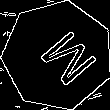M_SW: (23, 21, 92, 90)
